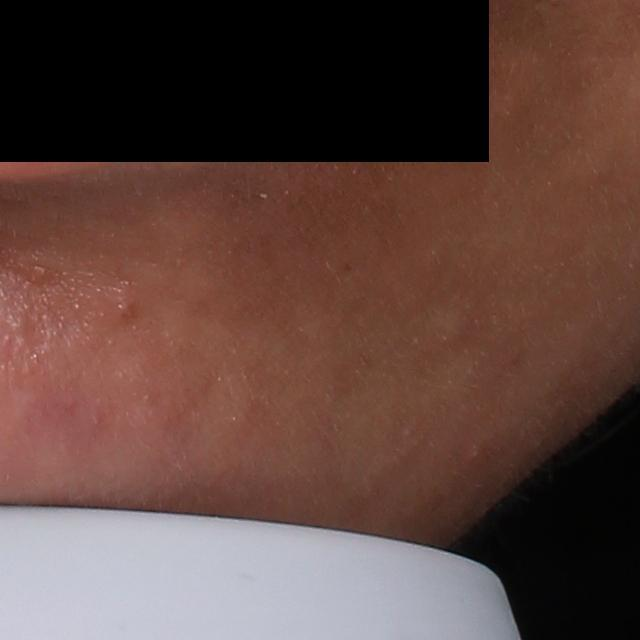papule: (111, 293, 149, 320)
